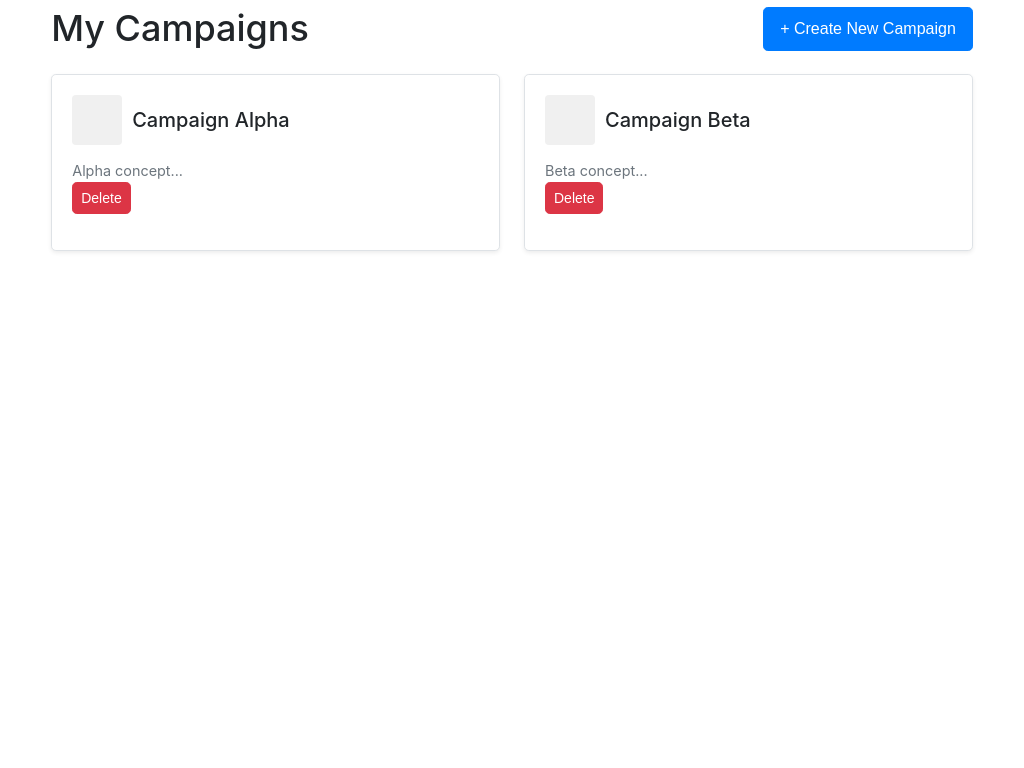
Test case: MyCampaignsPage › displays campaigns and initiates deletion process successfully
Expected: the heading "Campaign Alpha" is shown, [132,104,290,136]
Expected: the heading "Campaign Beta" is shown, [605,104,751,136]
Click the button with aria-label "Delete campaign" at (101, 198), box [72,182,131,214]
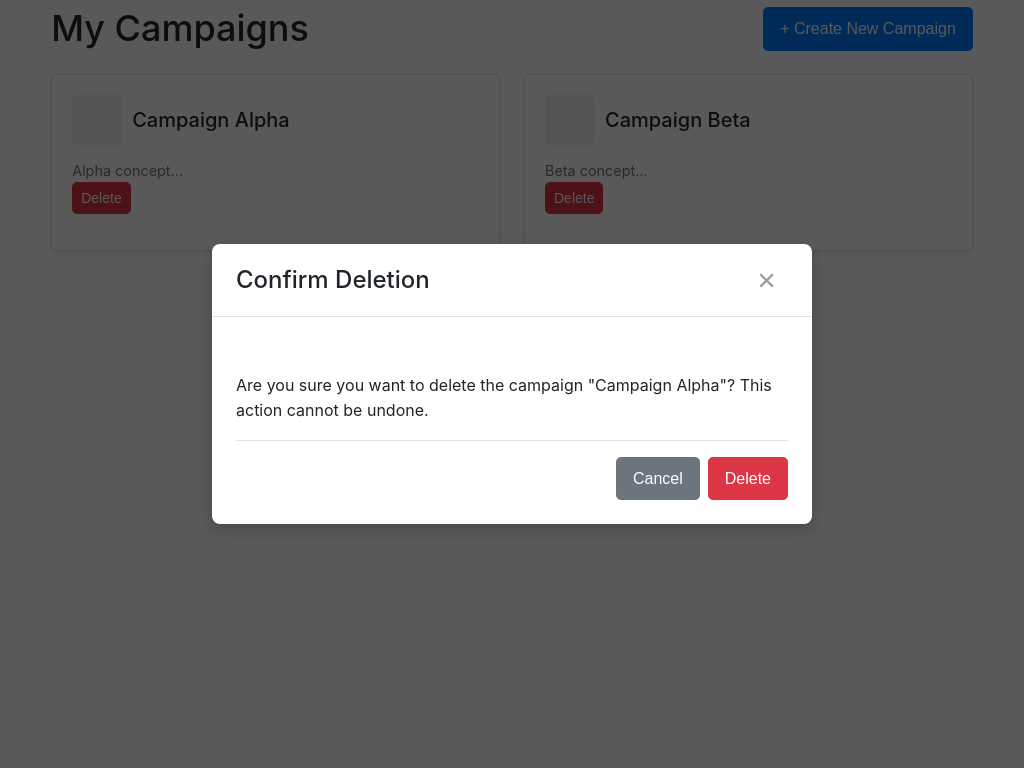
Now the heading "Confirm Deletion" is shown, box [236,263,430,296]
Now the text "Are you sure you want to delete the campaign \"Campaign Alpha\"?" is shown, box [236,375,772,420]
Click the button "Delete" at (748, 479), box [708,457,788,500]
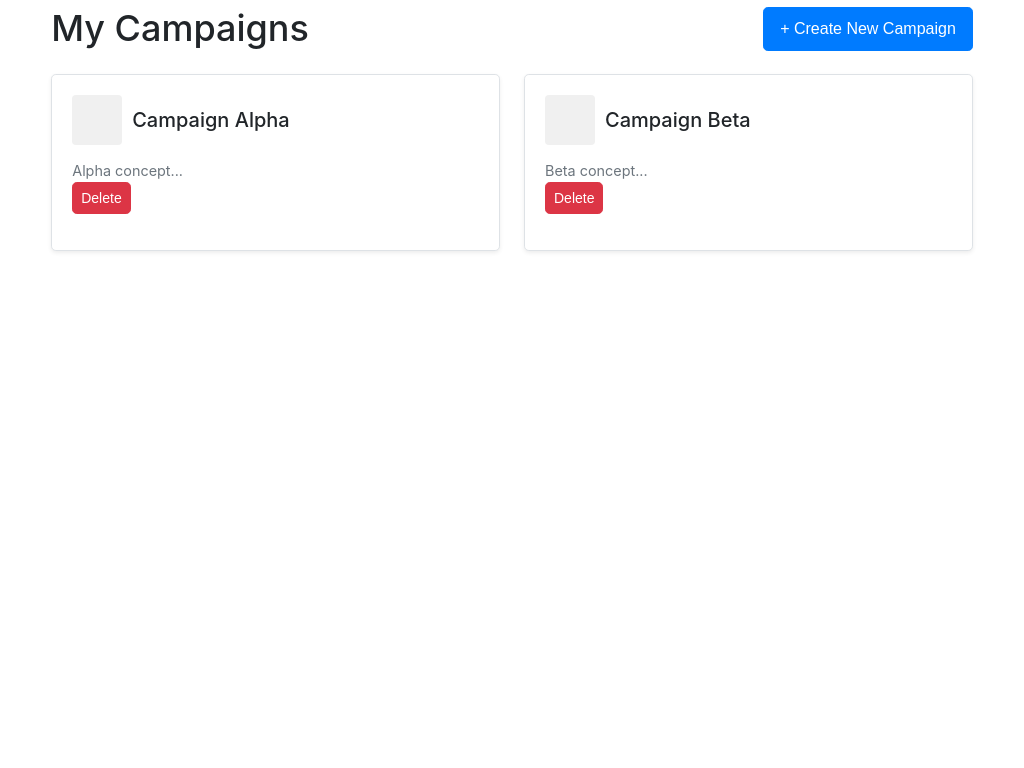
Now the heading "Confirm Deletion" is gone
